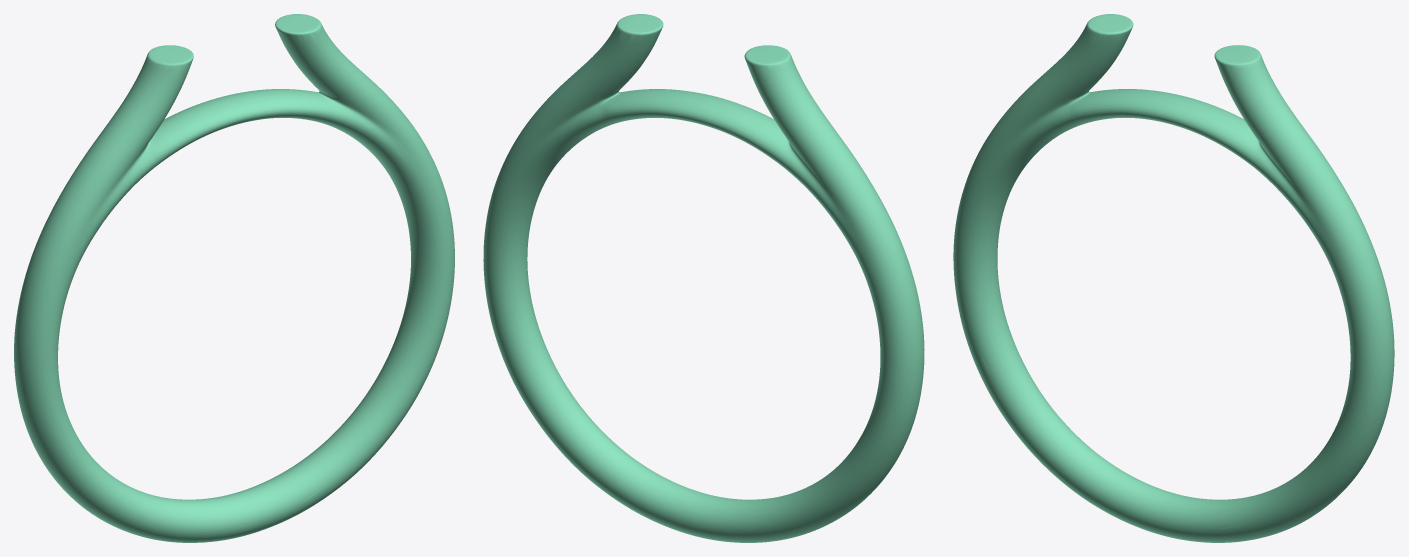
The picture shows the model from 3 angles, left to right: view 1: azimuth 30°, elevation 25°; view 2: azimuth 150°, elevation 25°; view 3: azimuth 330°, elevation 25°; orthographic projection.
Parts seen in each view (by area): view 1: Metal02; view 2: Metal02; view 3: Metal02.
Boxes of the visible parts, box(x1,y1,x2,y2) form: Metal02: box(14, 14, 454, 542); Metal02: box(483, 14, 924, 542); Metal02: box(953, 14, 1394, 542).
Bounding box in the file's own units: 20.9 × 22.83 × 1.99.
